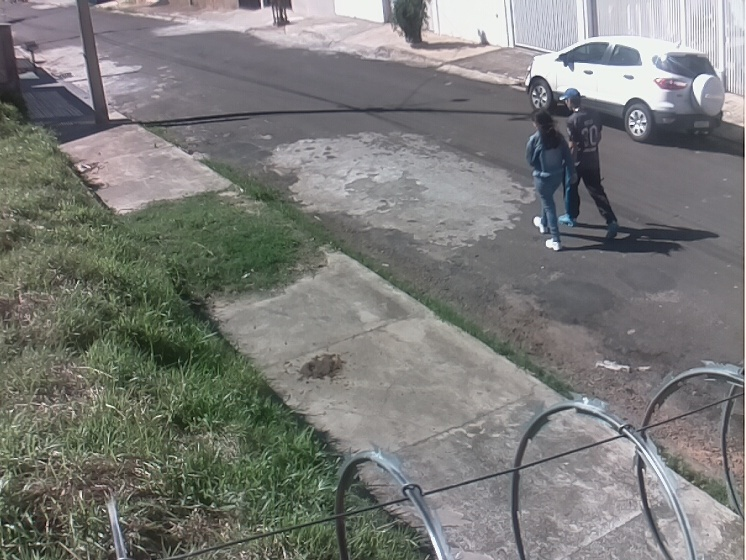person: (557, 88, 620, 243), (524, 108, 579, 253)
